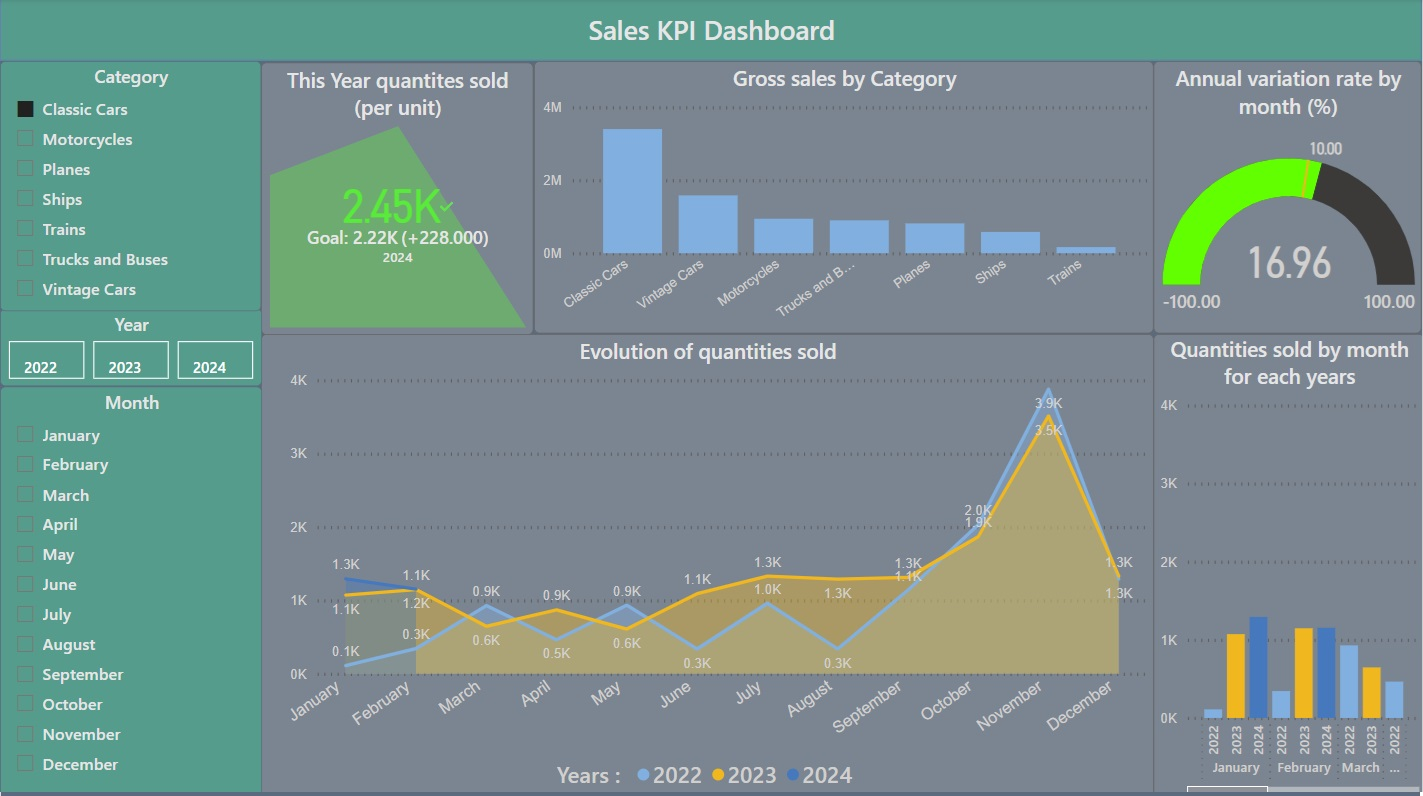

The page's visual inventory and layout, read from the dashboard file:
{"tool":"powerbi","page":{"name":"SALES","canvas":[1280,720],"ordinal":2},"visuals":[{"type":"shape","box":[0,0,1280.3,56.3],"z":0},{"type":"areaChart","title":"Evolution of quantities sold","fields":{"Category":["VT_3_ALLYEARS.Month"],"Series":["VT_3_ALLYEARS.Year"],"Y":["Sum(VT_3_ALLYEARS.Subtotal)"]},"box":[235,302.5,803.8,420],"z":1000},{"type":"columnChart","title":"Gross sales by Category","fields":{"Category":["CA.productLine"],"Y":["Sum(Ventes_1.CA)"]},"box":[480.3,56.9,558.3,245.1],"z":3000},{"type":"lineStackedColumnComboChart","title":"Quantities sold by month for each years","fields":{"Category":["VT_3_ALLYEARS.Month","VT_3_ALLYEARS.Year"],"Y":["Sum(VT_3_ALLYEARS.Subtotal)"],"Series":["VT_3_ALLYEARS.Year"]},"box":[1039.1,303,243.9,419.8],"z":4000},{"type":"slicer","title":"Month","fields":{"Values":["VT_3_ALLYEARS.Month"]},"box":[0,350,236.2,370],"z":5000},{"type":"kpi","title":"This Year quantites sold (per unit) ","fields":{"Indicator":["Sum(VT_3_ALLYEARS.Subtotal)"],"Goal":["Sum(VT_3_ALLYEARS.LastMonth)"],"TrendLine":["VT_3_ALLYEARS.Year"]},"box":[235,57.5,245,245],"z":6000},{"type":"textbox","title":"Sales KPI Dashboard","box":[498.6,12.7,284.5,29.6],"z":7000},{"type":"advancedSlicerVisual","title":"Year","fields":{"Values":["VT_3_ALLYEARS.Year"]},"box":[0,280,235.7,70],"z":8000},{"type":"slicer","title":"Category","fields":{"Values":["VT_3_ALLYEARS.Category"]},"box":[0,56.2,235,225],"z":9000},{"type":"gauge","title":"Annual variation rate by month (%)","fields":{"Y":["Sum(VT_3_ALLYEARS.Evolution_Rate)"]},"box":[1038.6,56.9,241.4,245.1],"z":10001}]}

Visuals, with their boxes in screenshot pixels (x1, y1, x2, y2), scaled from the page's 1280x720 canvas onto the 1423x796 screenshot:
shape: Rect(0, 0, 1422, 62)
"Evolution of quantities sold" areaChart: Rect(261, 334, 1155, 795)
"Gross sales by Category" columnChart: Rect(534, 63, 1155, 334)
"Quantities sold by month for each years" lineStackedColumnComboChart: Rect(1155, 335, 1422, 795)
"Month" slicer: Rect(0, 387, 263, 795)
"This Year quantites sold (per unit) " kpi: Rect(261, 64, 534, 334)
"Sales KPI Dashboard" textbox: Rect(554, 14, 871, 47)
"Year" advancedSlicerVisual: Rect(0, 310, 262, 387)
"Category" slicer: Rect(0, 62, 261, 311)
"Annual variation rate by month (%)" gauge: Rect(1155, 63, 1422, 334)
